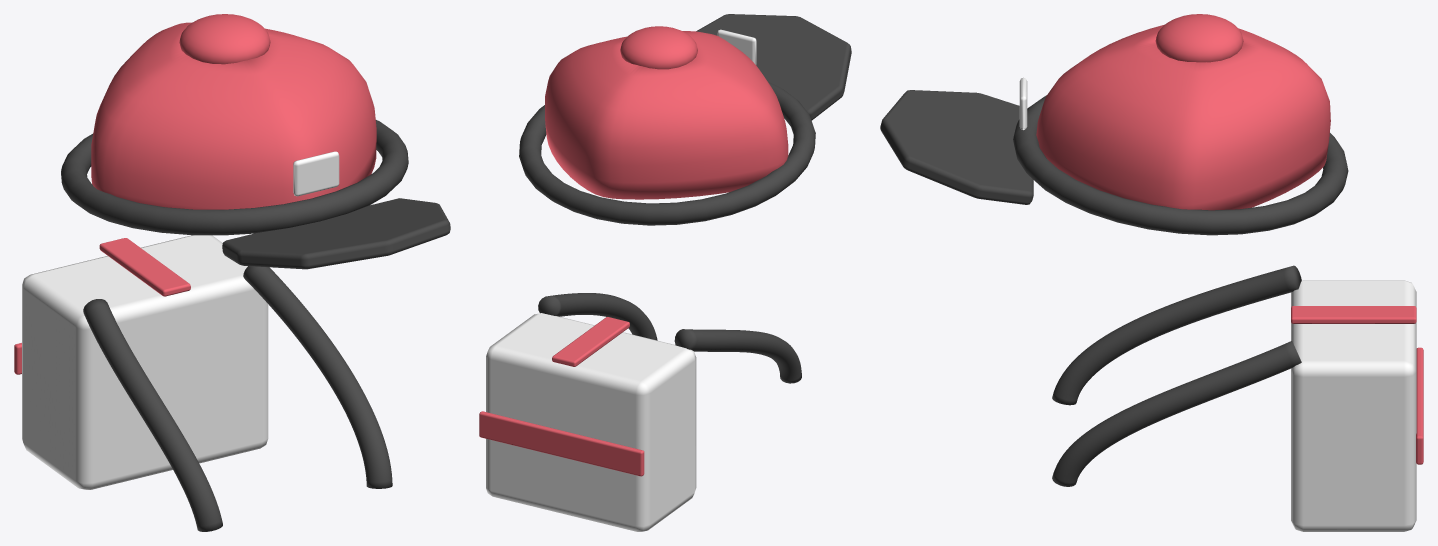
File: Outfit_Delivery.glb
The picture shows the model from 3 angles, left to right: view 1: azimuth 30°, elevation 25°; view 2: azimuth 150°, elevation 25°; view 3: azimuth 270°, elevation 25°; orthographic projection. The views are drawn at different scales.
Visible parts, largest first — view 1: Head, Body; view 2: Head, Body; view 3: Head, Body.
Part boxes in pixels (x1,y1,x2,y2): Head: (61,14,450,269); Body: (14,235,392,531); Head: (519,14,851,225); Body: (479,293,801,531); Head: (880,14,1348,235); Body: (1052,265,1423,531).
Size of the model in its own units: 0.536 by 0.825 by 0.8634.
